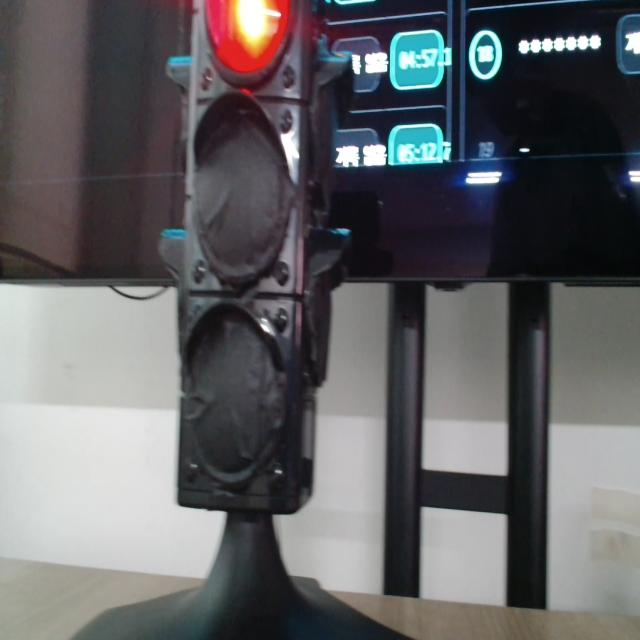red_light: (207, 0, 290, 74)
